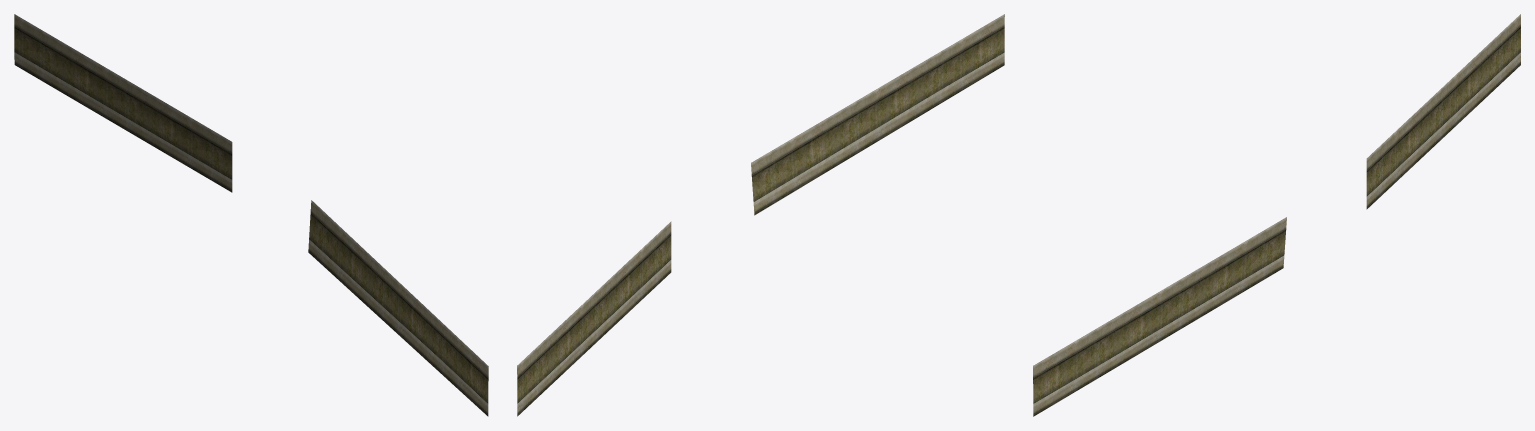
File: CH09_SMAUG_PLAYSURFACE_LAIR129.fbx
3 views of the same model, side by side, from view 1: azimuth 30°, elevation 25°; view 2: azimuth 150°, elevation 25°; view 3: azimuth 330°, elevation 25° (orthographic).
Parts seen in each view (by area): view 1: CH09_SMAUG_PLAYSURFACE_LAIR129; view 2: CH09_SMAUG_PLAYSURFACE_LAIR129; view 3: CH09_SMAUG_PLAYSURFACE_LAIR129.
Boxes of the visible parts, <box> form: CH09_SMAUG_PLAYSURFACE_LAIR129: <box>14,14,488,416</box>; CH09_SMAUG_PLAYSURFACE_LAIR129: <box>517,14,1004,416</box>; CH09_SMAUG_PLAYSURFACE_LAIR129: <box>1033,14,1520,416</box>.
Size of the model in its own units: 5980 by 7861 by 132115.
1 material, 1 textured.
